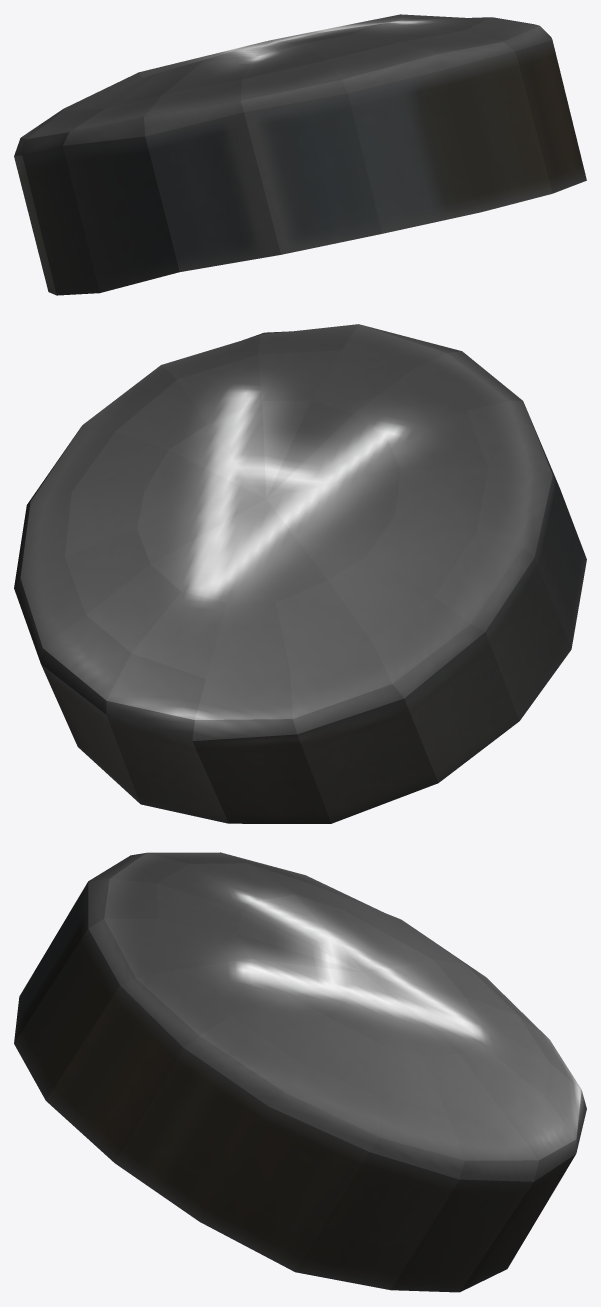
The model's file is YVR_d3_right_Abutton.obj.
The picture shows the model from 3 angles, top to bottom: view 1: azimuth 30°, elevation 25°; view 2: azimuth 150°, elevation 25°; view 3: azimuth 270°, elevation 25°; orthographic projection.
Visible parts, largest first — view 1: yvr_d3_right_Abutton; view 2: yvr_d3_right_Abutton; view 3: yvr_d3_right_Abutton.
Boxes of the visible parts, <box> form: yvr_d3_right_Abutton: <box>14,14,586,295</box>; yvr_d3_right_Abutton: <box>14,324,586,823</box>; yvr_d3_right_Abutton: <box>14,852,586,1292</box>.
Bounding box in the file's own units: 0.0104 × 0.0071 × 0.0108.
1 material, 1 textured.
